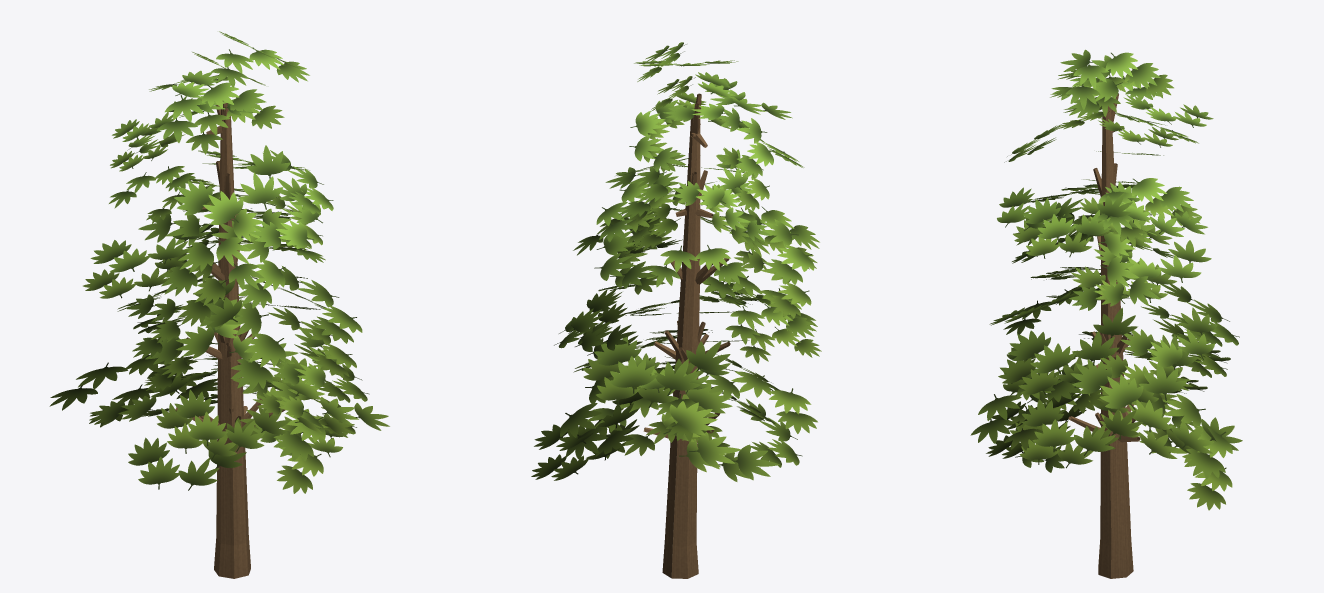
File: maple2_sg.glb
The picture shows the model from 3 angles, left to right: view 1: azimuth 30°, elevation 25°; view 2: azimuth 150°, elevation 25°; view 3: azimuth 270°, elevation 25°; orthographic projection. The views are drawn at different scales.
Visible parts, largest first — view 1: maple2_sg; view 2: maple2_sg; view 3: maple2_sg.
Boxes of the visible parts, x1,y1,x2,y2 form: maple2_sg: (49,31,389,578); maple2_sg: (531,42,821,578); maple2_sg: (970,49,1242,578).
Bounding box in the file's own units: 3.71 × 5.1 × 3.41.
2 materials, 2 textured.
